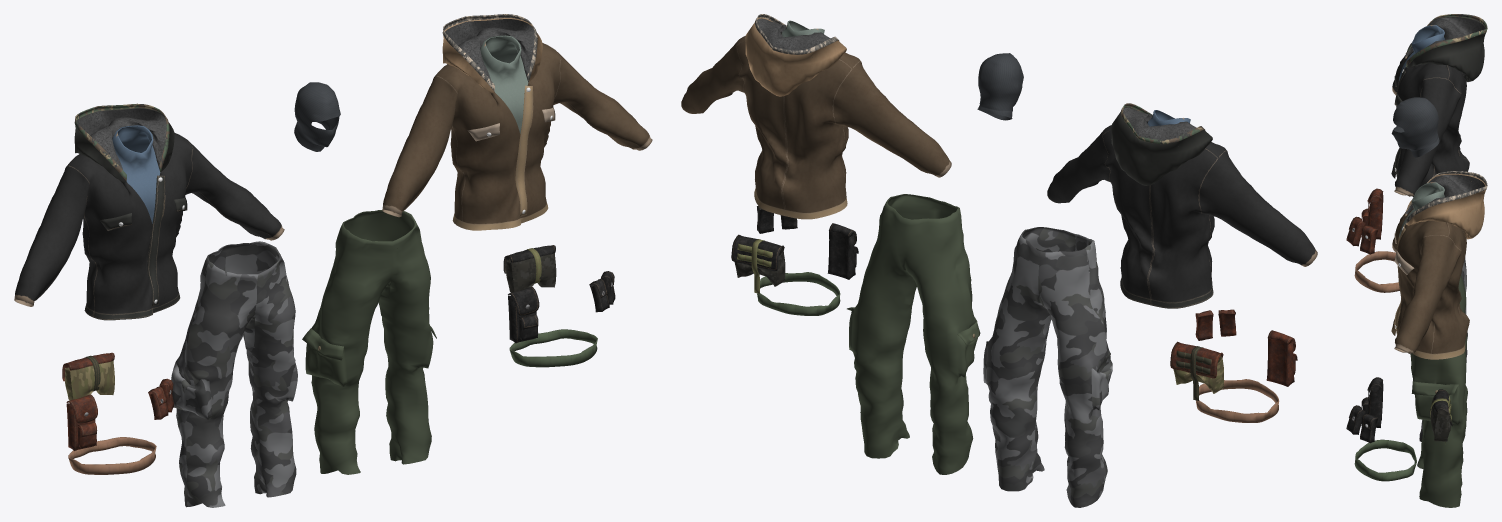
The model's file is tactical_clothing_asset_pack.glb.
The picture shows the model from 3 angles, left to right: view 1: azimuth 30°, elevation 25°; view 2: azimuth 150°, elevation 25°; view 3: azimuth 270°, elevation 25°; orthographic projection. The views are drawn at different scales.
Parts seen in each view (by area): view 1: pants_.001, pants_, jacket_, jacket_.003, shirt_, shirt_.001, mask_, hood in_.001, hood in_, hood out_, hood out_.001, belt_ (+7 smaller); view 2: pants_.001, pants_, jacket_, jacket_.003, hood out_, hood out_.001, mask_, belt_, belt_.001, pockets_.003, pockets_.007, hood in_ (+6 smaller); view 3: jacket_, jacket_.003, pants_, hood out_.001, hood out_, mask_, belt_, hood in_, hood in_.001, belt_.001, shirt_, shirt_.001 (+13 smaller).
Part boxes in pixels (bbox=[...]): pants_.001: bbox=[171, 241, 297, 507]; pants_: bbox=[305, 210, 433, 474]; jacket_: bbox=[382, 43, 652, 230]; jacket_.003: bbox=[14, 133, 284, 320]; shirt_: bbox=[480, 35, 528, 133]; shirt_.001: bbox=[112, 125, 160, 223]; mask_: bbox=[294, 82, 340, 151]; hood in_.001: bbox=[77, 108, 166, 171]; hood in_: bbox=[445, 19, 534, 81]; hood out_: bbox=[442, 14, 542, 93]; hood out_.001: bbox=[74, 103, 174, 183]; belt_: bbox=[509, 329, 597, 367]; pants_.001: bbox=[983, 227, 1112, 507]; pants_: bbox=[849, 194, 977, 474]; jacket_: bbox=[681, 33, 951, 219]; jacket_.003: bbox=[1047, 122, 1317, 308]; hood out_: bbox=[745, 14, 846, 96]; hood out_.001: bbox=[1111, 103, 1212, 185]; mask_: bbox=[977, 53, 1023, 120]; belt_: bbox=[757, 272, 840, 315]; belt_.001: bbox=[1196, 379, 1279, 422]; pockets_.003: bbox=[827, 231, 856, 279]; pockets_.007: bbox=[1266, 338, 1295, 386]; hood in_: bbox=[757, 18, 830, 57]; jacket_: bbox=[1391, 208, 1469, 359]; jacket_.003: bbox=[1391, 51, 1469, 196]; pants_: bbox=[1410, 275, 1467, 507]; hood out_.001: bbox=[1405, 14, 1487, 81]; hood out_: bbox=[1405, 171, 1487, 239]; mask_: bbox=[1391, 97, 1439, 157]; belt_: bbox=[1354, 439, 1416, 481]; hood in_: bbox=[1405, 174, 1485, 216]; hood in_.001: bbox=[1405, 17, 1485, 58]; belt_.001: bbox=[1354, 251, 1399, 292]; shirt_: bbox=[1399, 182, 1444, 237]; shirt_.001: bbox=[1399, 25, 1444, 80].
Bounding box in the file's own units: 3.26 × 2.02 × 0.715.
Materials: 6 (6 with a texture image).
